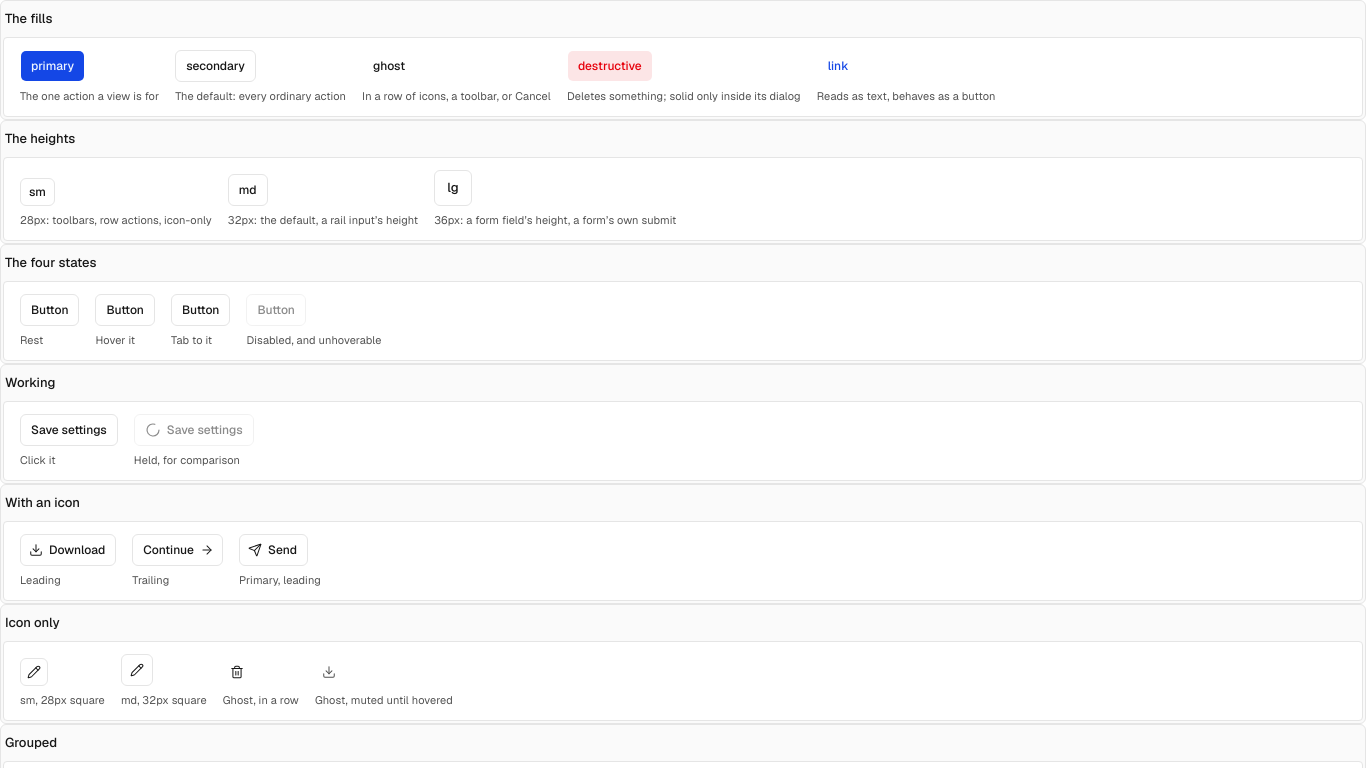
Test: the button specimens › keeps the label and disables itself while working
Click the 1st button "Save settings" at (69, 430), box [20, 414, 118, 446]
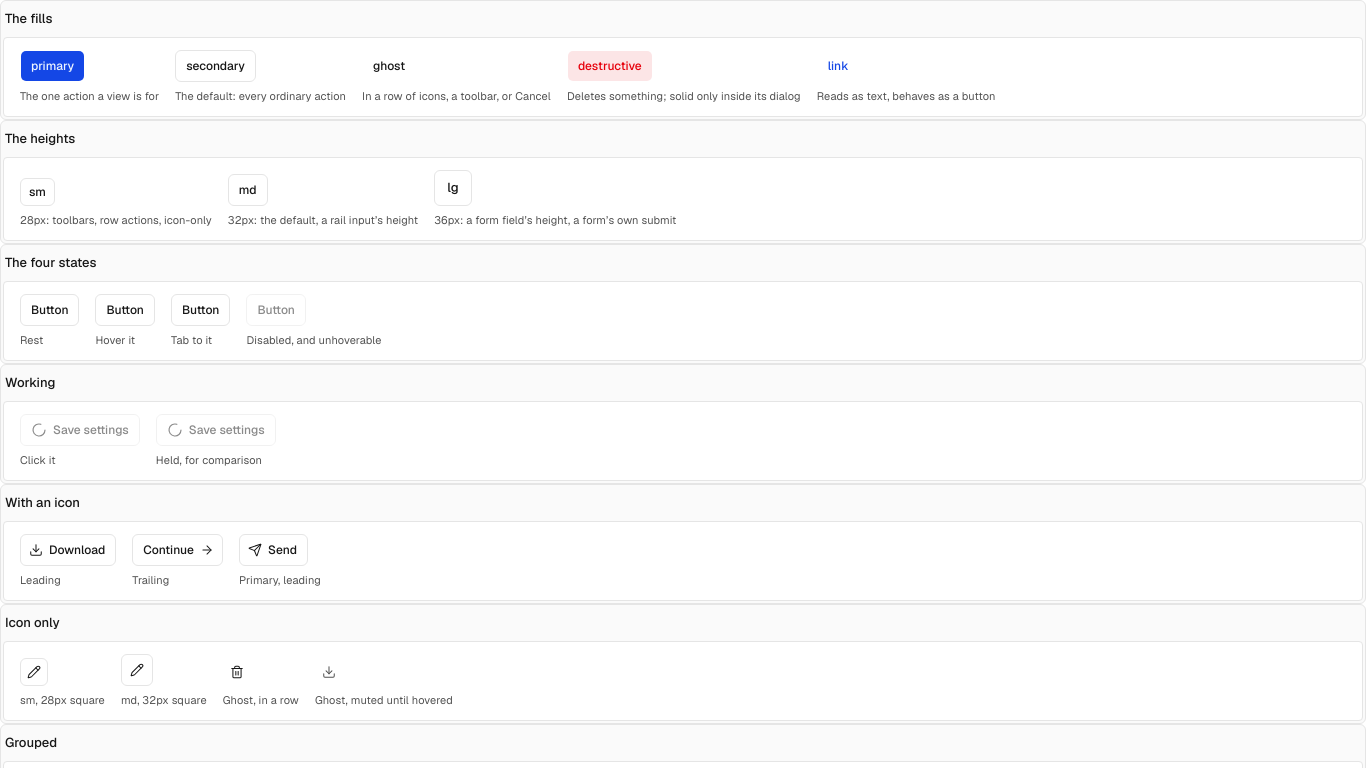
Check: the 1st button "Save settings" is disabled, box [20, 414, 140, 446]
